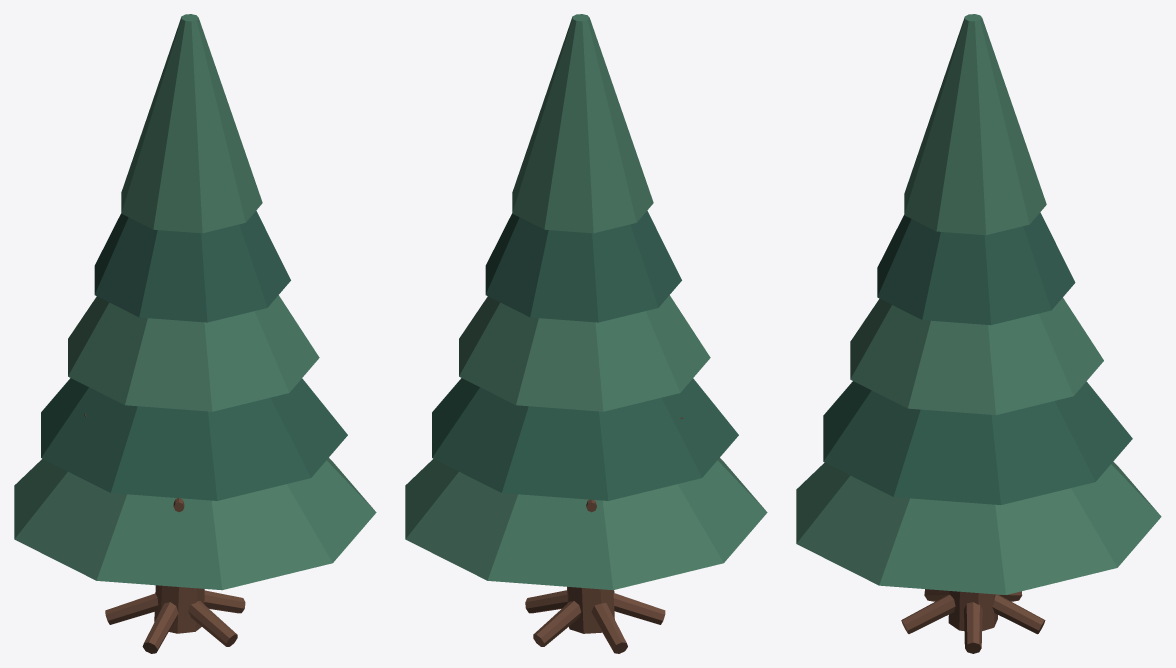
The model's file is tree_pine.glb.
3 views of the same model, side by side, from view 1: azimuth 30°, elevation 25°; view 2: azimuth 150°, elevation 25°; view 3: azimuth 270°, elevation 25° (orthographic).
Visible parts, largest first — view 1: Geometry; view 2: Geometry; view 3: Geometry.
Boxes of the visible parts, left/top/right/bottom form: Geometry: left=14, top=14, right=376, bottom=653; Geometry: left=405, top=14, right=767, bottom=653; Geometry: left=796, top=14, right=1161, bottom=653.
Size of the model in its own units: 2.07 by 3.77 by 2.04.
